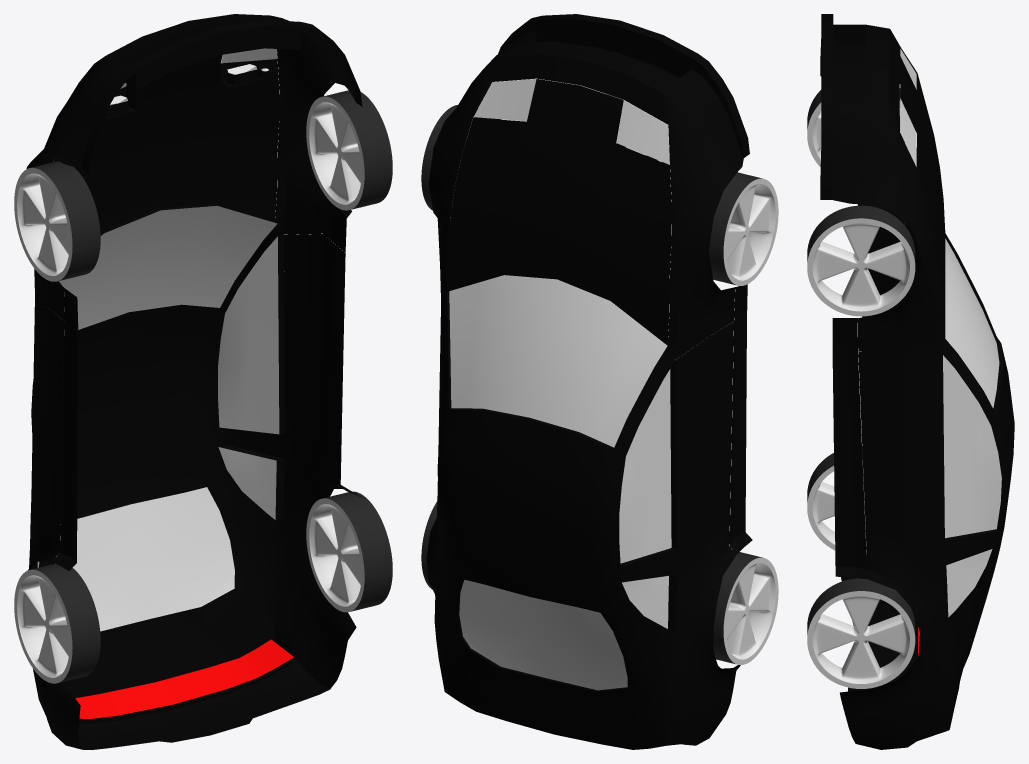
3 renders of one model, left to right at view 1: azimuth 30°, elevation 25°; view 2: azimuth 150°, elevation 25°; view 3: azimuth 270°, elevation 25°, orthographic. The views are drawn at different scales.
Visible parts, largest first — view 1: Nassan 300xz, Wheels.FL.001, Wheels.FL.003, Wheels.FL.002, Wheels.FL, HeadLights, HeadLights.Glass; view 2: Nassan 300xz, Wheels.FL.003, Wheels.FL.002, HeadLights.Glass, Wheels.FL; view 3: Nassan 300xz, Wheels.FL, Wheels.FL.001, Wheels.FL.002, Wheels.FL.003, HeadLights.Glass.
Boxes of the visible parts, left/top/right/bottom form: Nassan 300xz: left=26, top=14, right=362, bottom=749; Wheels.FL.001: left=306, top=491, right=392, bottom=612; Wheels.FL.003: left=14, top=161, right=100, bottom=281; Wheels.FL.002: left=14, top=563, right=100, bottom=683; Wheels.FL: left=306, top=90, right=392, bottom=210; HeadLights: left=103, top=64, right=257, bottom=120; HeadLights.Glass: left=120, top=48, right=277, bottom=88; Nassan 300xz: left=426, top=14, right=752, bottom=749; Wheels.FL.003: left=708, top=172, right=778, bottom=285; Wheels.FL.002: left=713, top=552, right=778, bottom=664; HeadLights.Glass: left=474, top=79, right=669, bottom=164; Wheels.FL: left=421, top=105, right=477, bottom=212; Nassan 300xz: left=820, top=14, right=1014, bottom=749; Wheels.FL: left=807, top=205, right=915, bottom=316; Wheels.FL.001: left=807, top=578, right=915, bottom=688; Wheels.FL.002: left=807, top=446, right=866, bottom=554; Wheels.FL.003: left=807, top=88, right=915, bottom=166; HeadLights.Glass: left=900, top=49, right=916, bottom=166.
Size of the model in its own units: 136 by 293 by 82.41.
